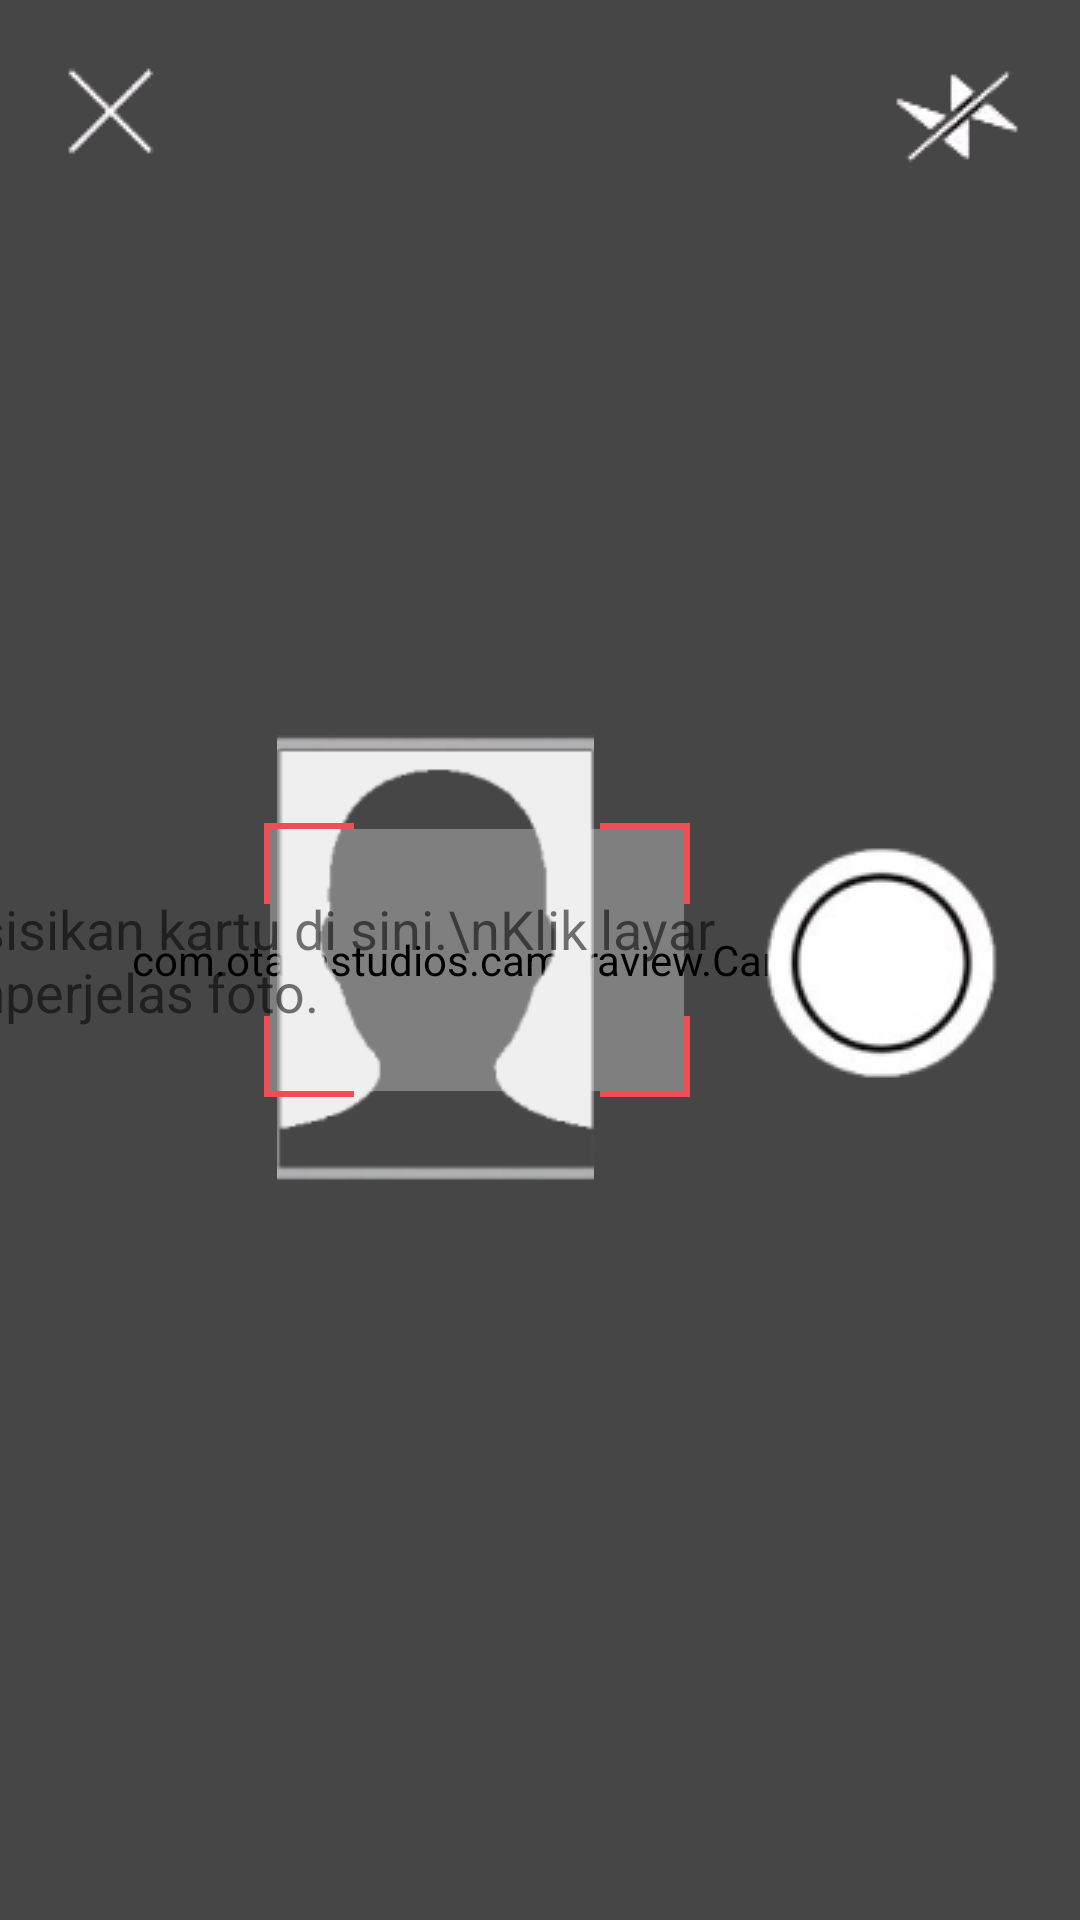

Icons on this 1080x1920 Android screen, each with its box as box(x1, y1, x2, y2):
capture: box(741, 848, 997, 1078)
close: box(68, 68, 154, 154)
lampu: box(896, 71, 1018, 162)
